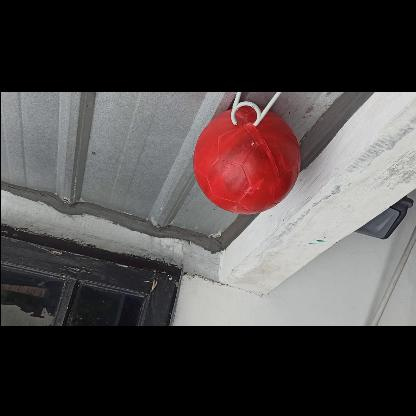red_ball: (191, 106, 299, 214)
